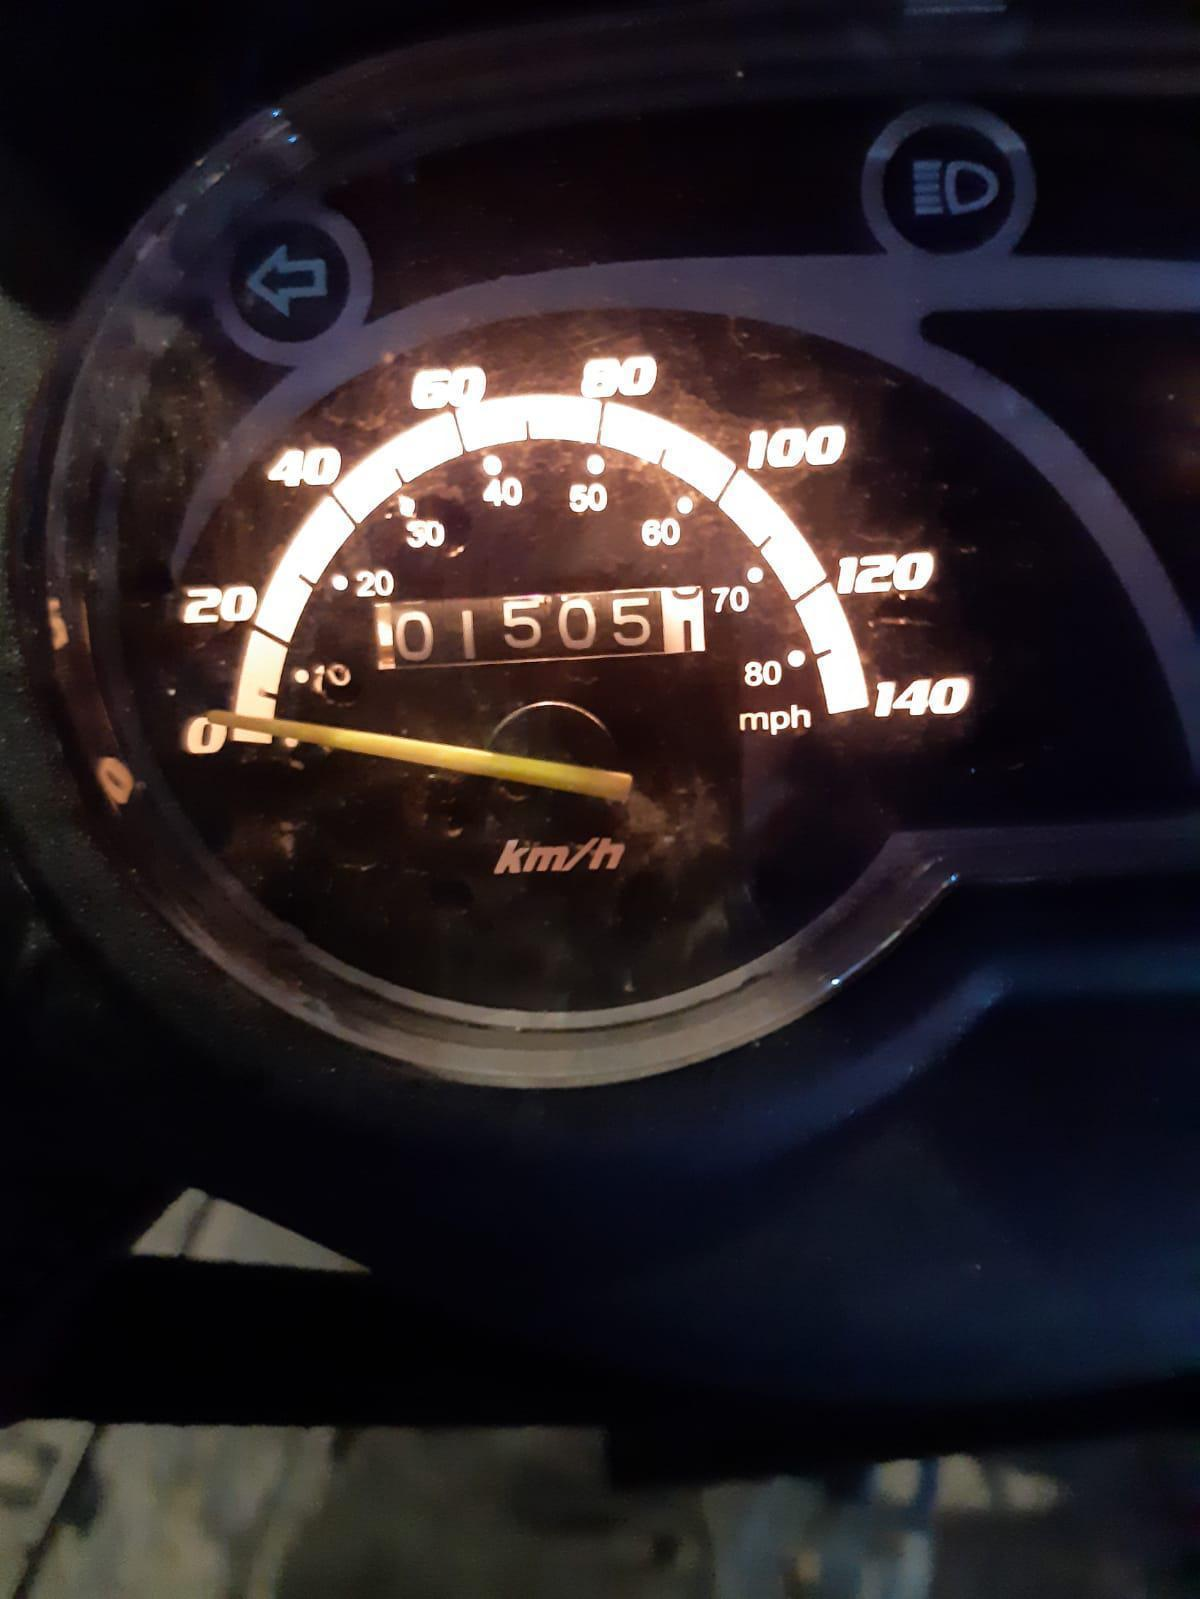0: (393, 607, 436, 662), (557, 596, 599, 651)
1: (455, 604, 482, 662), (677, 615, 696, 655)
5: (498, 596, 545, 651), (609, 593, 655, 648)
odometer: (377, 583, 713, 672)
